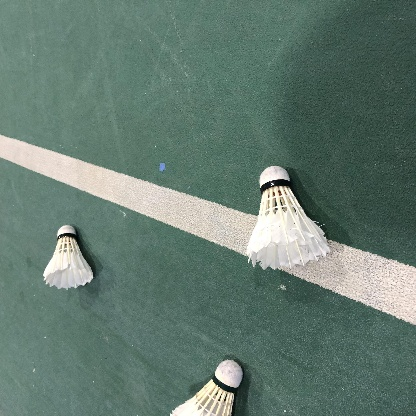ball_single: (247, 166, 330, 270), (170, 360, 243, 416), (43, 225, 93, 290)
